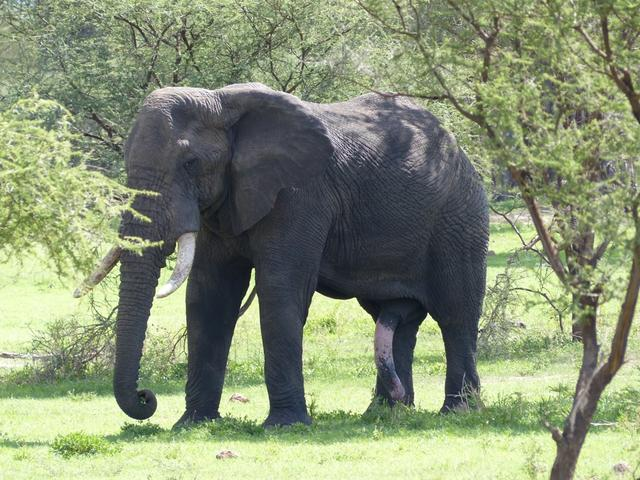elephant: (87, 52, 523, 464)
